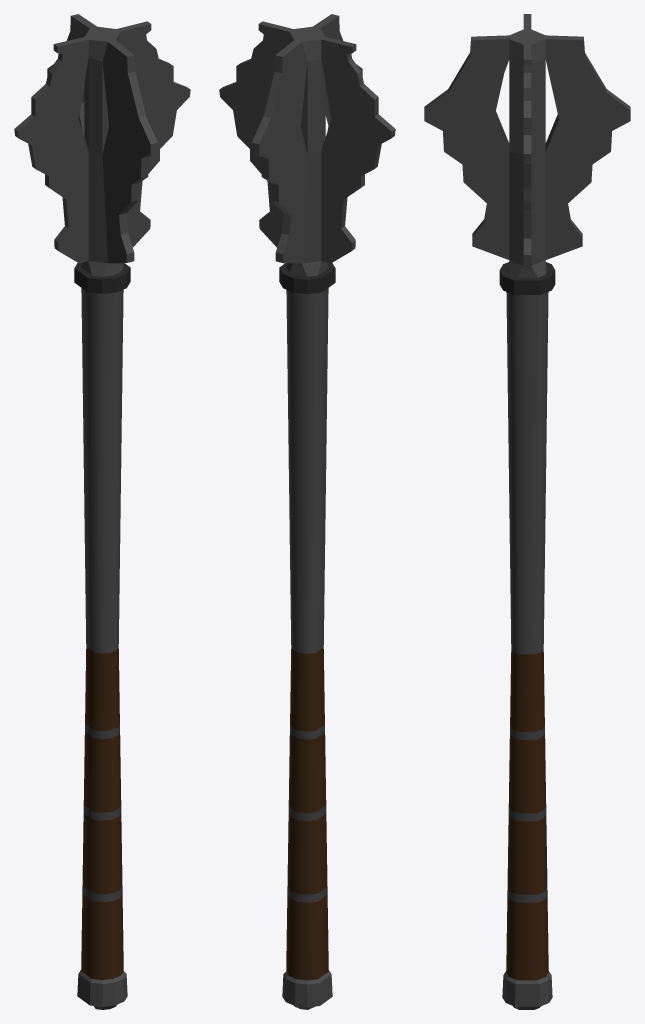
File: Mace.fbx
3 renders of one model, left to right at view 1: azimuth 30°, elevation 25°; view 2: azimuth 150°, elevation 25°; view 3: azimuth 270°, elevation 25°, orthographic.
Parts seen in each view (by area): view 1: Mace; view 2: Mace; view 3: Mace.
Part boxes in pixels (<box>): Mace: <box>14,14,190,1009</box>; Mace: <box>219,14,395,1009</box>; Mace: <box>424,14,630,1009</box>.
Bounding box in the file's own units: 0.4562 × 2.45 × 0.473.
